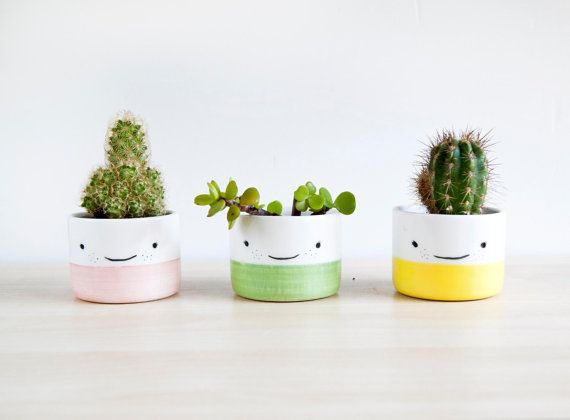flowerpot: (228, 207, 345, 302), (393, 204, 503, 301), (68, 213, 184, 300)
